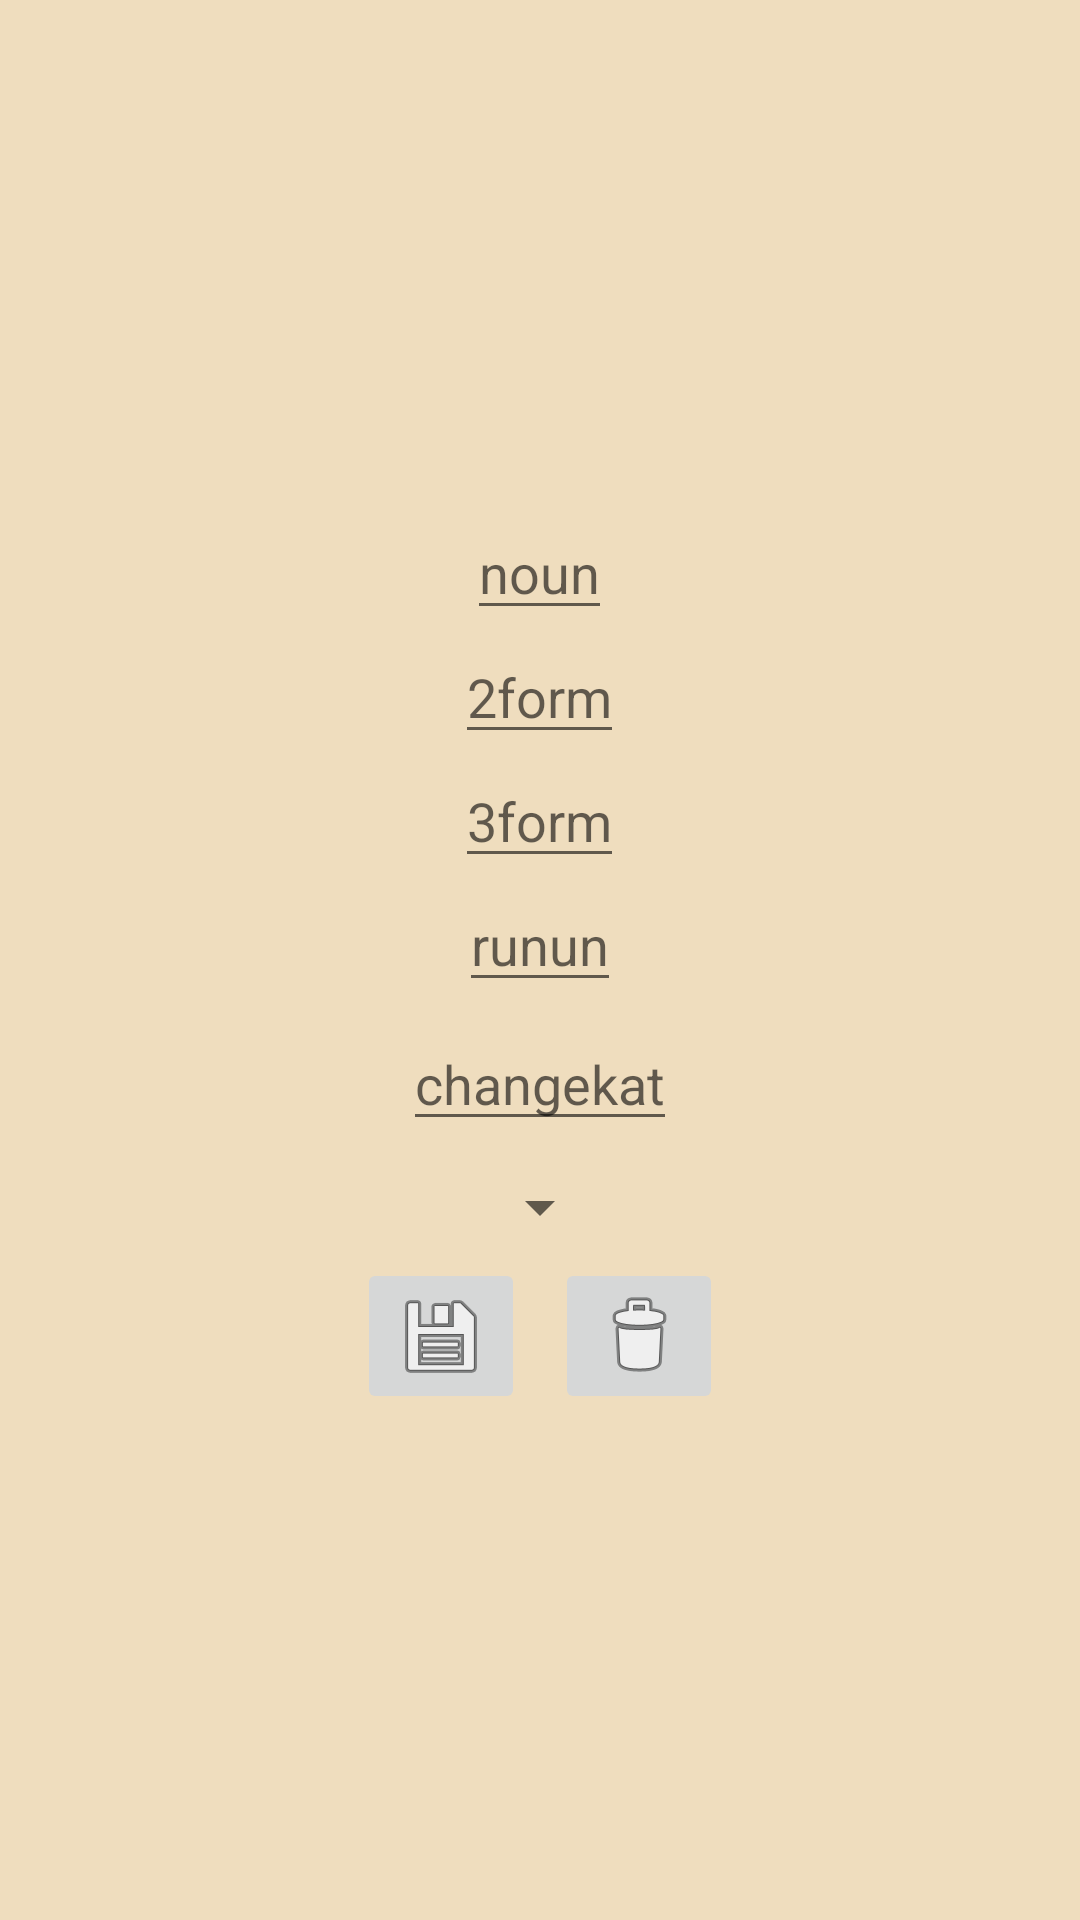

Where icons sit on this 1080x1920 app screen, as (x1, y1, x2, y2):
delete: (567, 1276, 711, 1396)
save: (369, 1276, 513, 1396)
